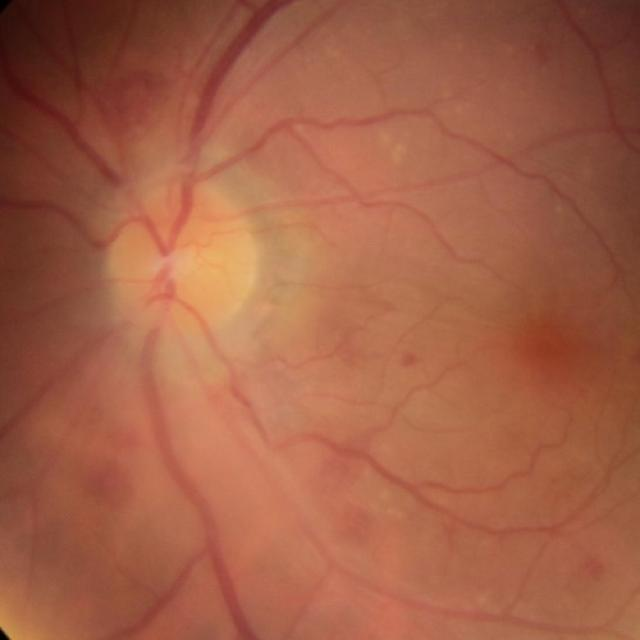OD: (88, 182, 261, 346)
